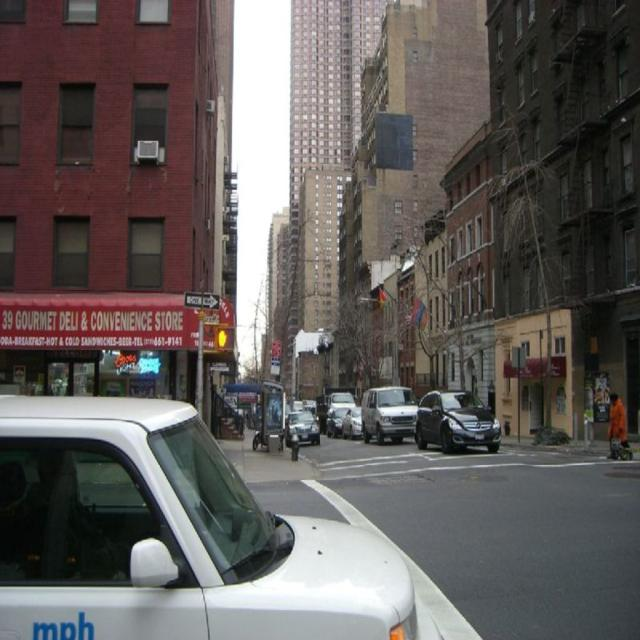car: (412, 388, 503, 452)
